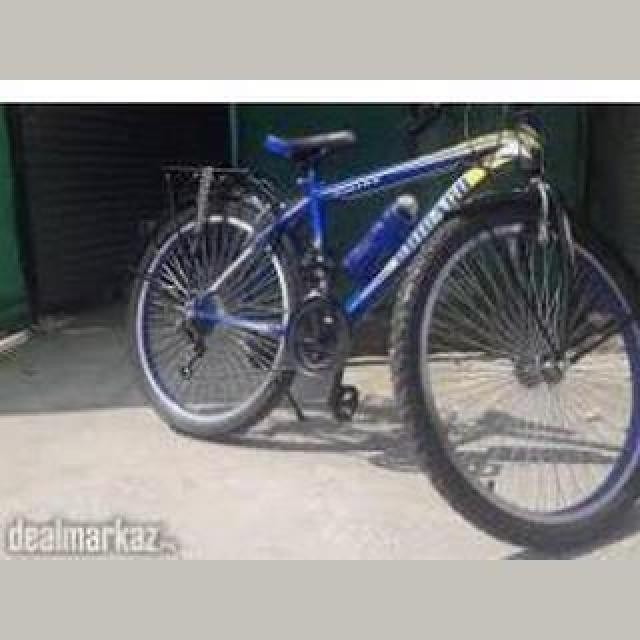Person: (132, 125, 640, 555)
